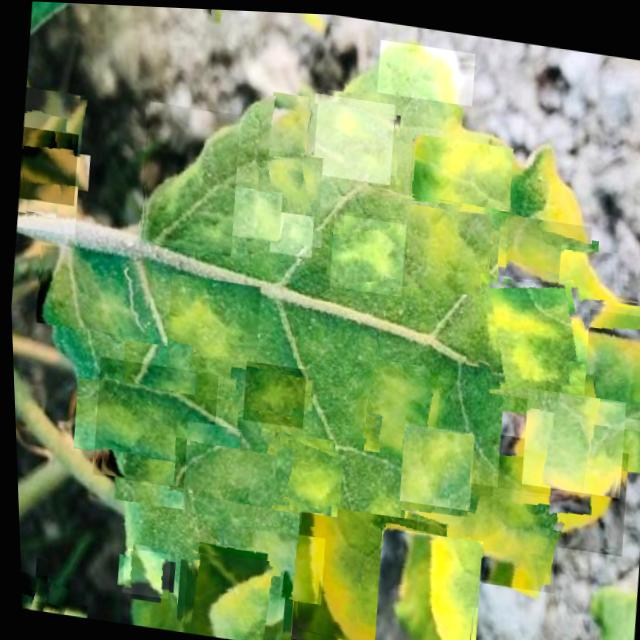leaf_spot: (281, 499, 447, 640), (389, 469, 560, 588), (85, 355, 219, 491), (487, 429, 628, 551), (133, 99, 243, 255), (467, 268, 592, 394), (364, 522, 482, 640), (515, 382, 626, 493), (183, 517, 323, 602), (30, 243, 153, 337), (11, 86, 87, 235), (159, 272, 261, 381), (175, 419, 277, 522), (552, 299, 640, 415), (175, 547, 279, 640), (395, 199, 494, 293), (499, 210, 592, 304), (405, 129, 513, 209), (347, 359, 440, 451), (306, 90, 396, 182), (256, 430, 340, 514), (393, 419, 473, 507), (325, 210, 406, 293), (375, 36, 476, 102), (554, 239, 640, 303), (253, 146, 324, 218), (15, 126, 79, 205), (237, 358, 305, 427), (258, 92, 318, 152), (227, 183, 282, 240), (116, 546, 167, 598), (266, 208, 313, 256), (17, 571, 66, 615), (292, 10, 342, 23), (202, 7, 232, 15)
